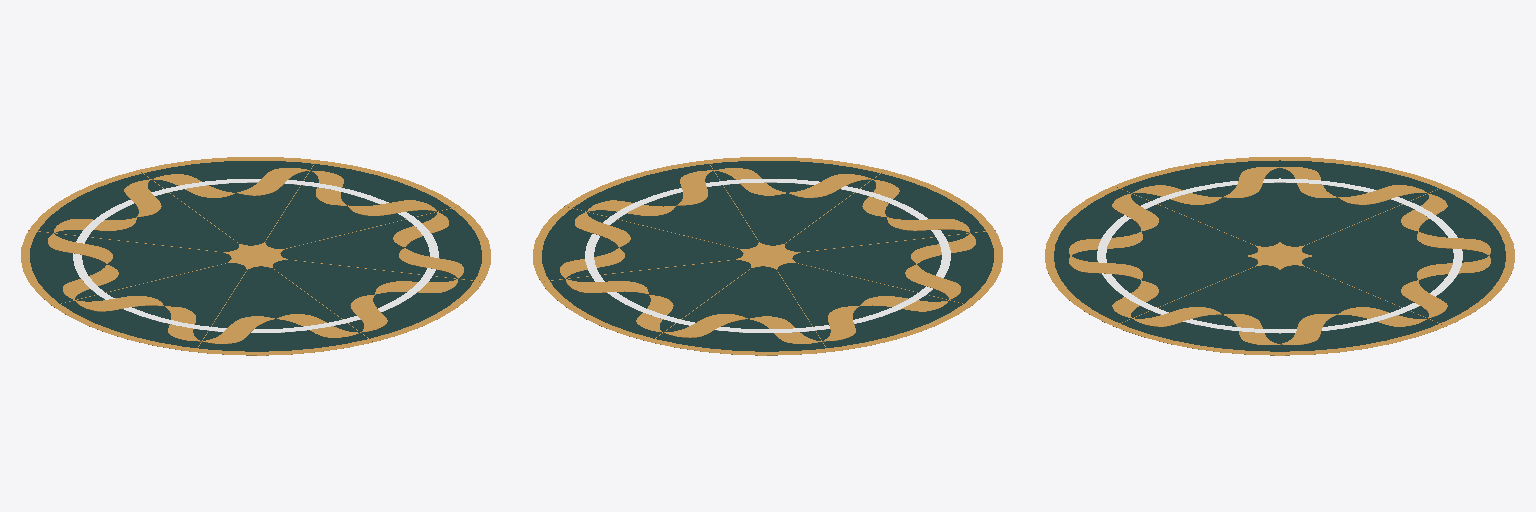
3 renders of one model, left to right at view 1: azimuth 30°, elevation 25°; view 2: azimuth 150°, elevation 25°; view 3: azimuth 270°, elevation 25°, orthographic.
Parts seen in each view (by area): view 1: Circle02, Circle01, Donut01, Star02, Line03, Line08, Line04, Line07, Line09, Line05, Line06, Line01 (+8 smaller); view 2: Circle02, Circle01, Donut01, Star02, Line06, Line07, Line01, Line03, Line09, Line04, Line05, Line08 (+8 smaller); view 3: Circle02, Circle01, Donut01, Star02, Line09, Line05, Line06, Line01, Line08, Line03, Line07, Line04 (+8 smaller).
Part boxes in pixels (x1,y1,x2,y2): Circle02: (30,161,481,351); Circle01: (21,157,490,355); Donut01: (73,179,438,332); Star02: (28,160,481,351); Line03: (202,316,274,343); Line08: (348,200,436,215); Line04: (75,296,163,311); Line07: (237,168,309,195); Line09: (399,248,463,278); Line05: (48,233,112,263); Line06: (124,179,161,216); Line01: (350,295,387,332); Circle02: (542,161,993,351); Circle01: (533,157,1002,355); Donut01: (585,179,950,332); Star02: (542,160,995,351); Line06: (663,314,747,337); Line07: (566,279,648,294); Line01: (789,174,871,197); Line03: (887,217,969,232); Line09: (676,170,713,205); Line04: (905,264,960,299); Line05: (822,306,859,341); Line08: (575,212,630,247); Circle02: (1054,160,1505,351); Circle01: (1045,157,1514,355); Donut01: (1097,178,1462,333); Star02: (1113,186,1446,326); Line09: (1132,307,1221,326); Line05: (1338,185,1427,204); Line06: (1417,232,1490,255); Line01: (1069,256,1142,279); Line08: (1280,314,1337,344); Line03: (1112,193,1158,231); Line07: (1401,280,1447,318); Line04: (1223,167,1279,197).
Size of the model in its own units: 180 by 0.2 by 180.